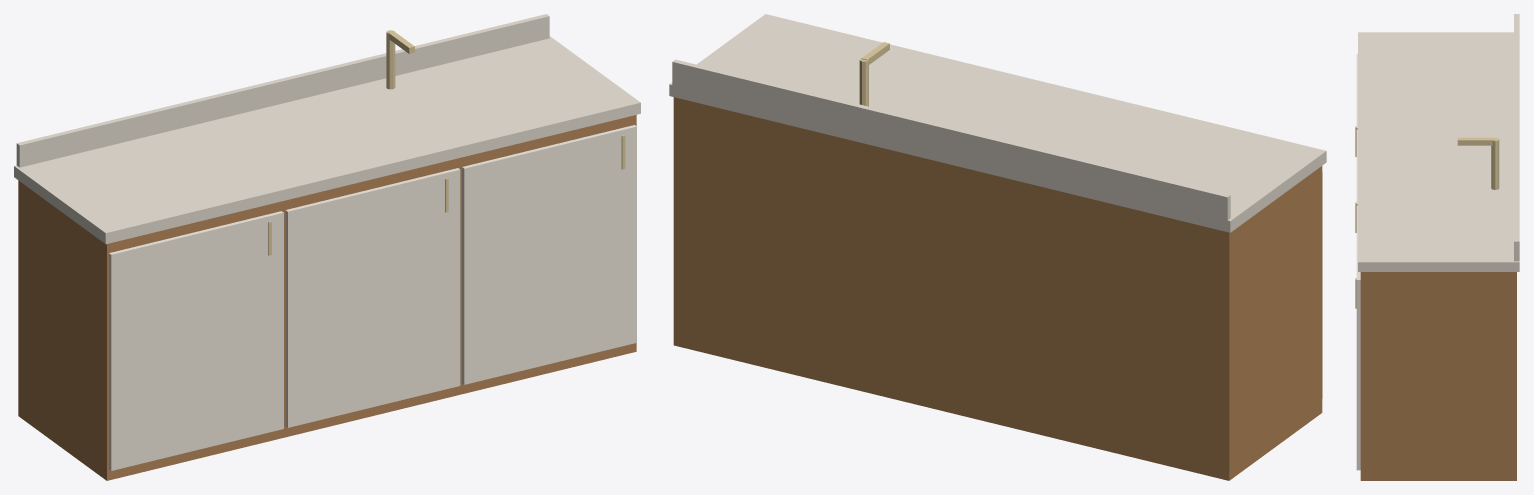
Rendered from bancada_pia_200.obj.
3 renders of one model, left to right at view 1: azimuth 30°, elevation 25°; view 2: azimuth 150°, elevation 25°; view 3: azimuth 270°, elevation 25°, orthographic. The views are drawn at different scales.
Visible parts, largest first — view 1: bancada_pia_200; view 2: bancada_pia_200; view 3: bancada_pia_200.
Boxes of the visible parts, x1=… form: bancada_pia_200: x1=14, y1=14, x2=640, y2=480; bancada_pia_200: x1=669, y1=14, x2=1326, y2=480; bancada_pia_200: x1=1355, y1=14, x2=1519, y2=480.
Bounding box in the file's own units: 202 × 110 × 60.9.
